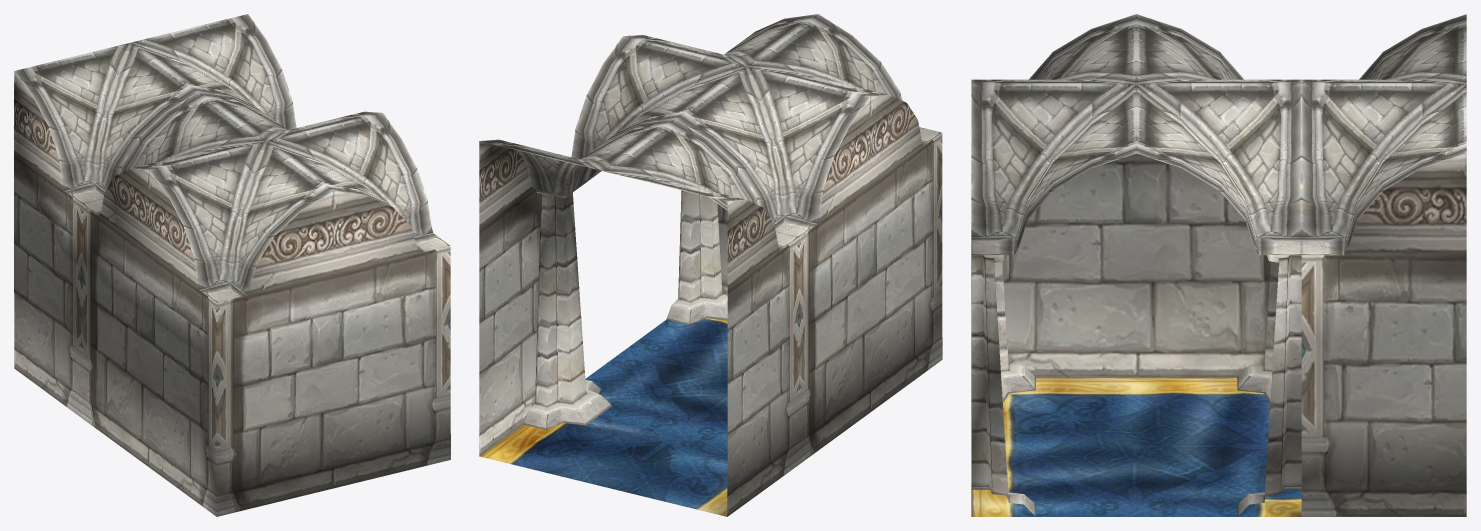
The model's file is stormwind_118.fbx.
3 renders of one model, left to right at view 1: azimuth 30°, elevation 25°; view 2: azimuth 150°, elevation 25°; view 3: azimuth 270°, elevation 25°, orthographic. The views are drawn at different scales.
Visible parts, largest first — view 1: stormwind_118_62, stormwind_118_111; view 2: stormwind_118_62, stormwind_118_111, stormwind_118_68, stormwind_118_60, stormwind_118_61; view 3: stormwind_118_62, stormwind_118_111, stormwind_118_68, stormwind_118_60, stormwind_118_61.
Part boxes in pixels (<box>): stormwind_118_62: <box>14,71,450,516</box>; stormwind_118_111: <box>14,14,450,302</box>; stormwind_118_62: <box>479,95,942,516</box>; stormwind_118_111: <box>480,14,941,250</box>; stormwind_118_68: <box>479,318,727,516</box>; stormwind_118_60: <box>535,190,789,406</box>; stormwind_118_61: <box>523,142,923,429</box>; stormwind_118_62: <box>971,153,1466,516</box>; stormwind_118_111: <box>971,14,1466,255</box>; stormwind_118_68: <box>971,377,1301,516</box>; stormwind_118_60: <box>971,255,1301,499</box>; stormwind_118_61: <box>971,241,1359,516</box>.
Size of the model in its own units: 9.42 by 11.44 by 14.12.
